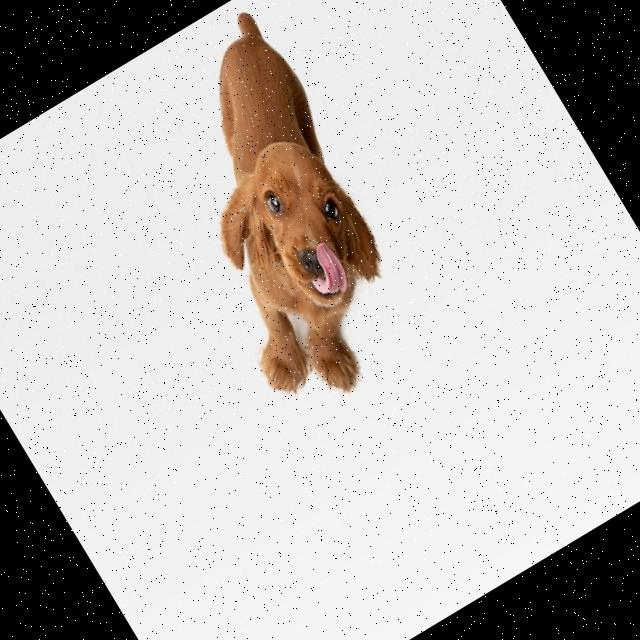Dog: (100, 6, 450, 424)
